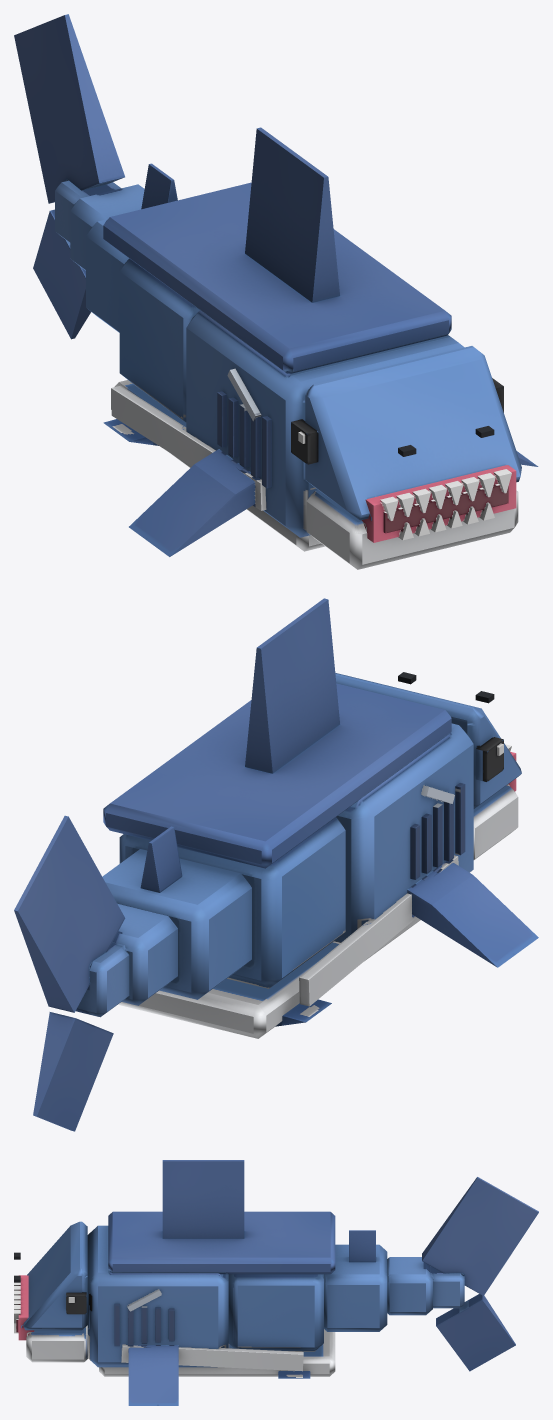
File: RequinVolant_Rig.fbx
The picture shows the model from 3 angles, top to bottom: view 1: azimuth 30°, elevation 25°; view 2: azimuth 150°, elevation 25°; view 3: azimuth 270°, elevation 25°; orthographic projection. The views are drawn at different scales.
Visible parts, largest first — view 1: Body, Tail, FinR; view 2: Body, Tail, FinR; view 3: Body, Tail, FinL.
Part boxes in pixels (x1,y1,x2,y2): Body: (70, 127, 521, 569); Tail: (14, 14, 124, 339); FinR: (129, 449, 255, 556); Body: (102, 598, 521, 1038); Tail: (14, 815, 129, 1131); FinR: (407, 861, 538, 967); Body: (14, 1160, 432, 1378); Tail: (422, 1177, 538, 1371); FinL: (128, 1345, 178, 1405).
Bounding box in the file's own units: 6.68 × 6 × 13.57.
1 material, 1 textured.
